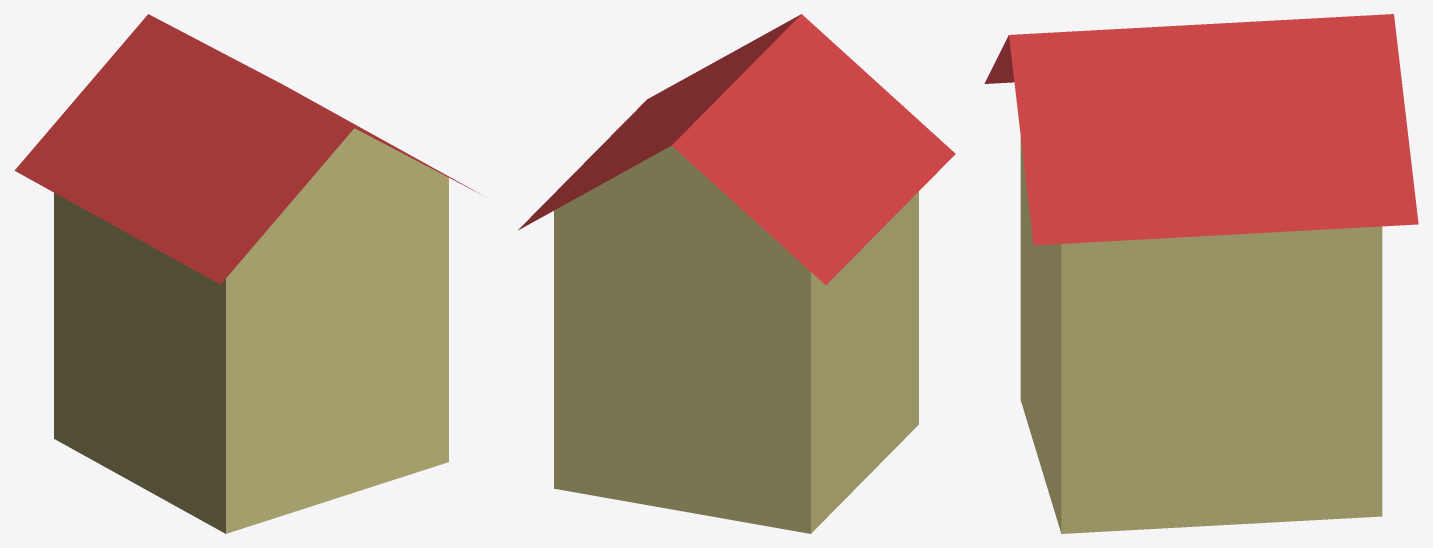
3 renders of one model, left to right at view 1: azimuth 30°, elevation 25°; view 2: azimuth 150°, elevation 25°; view 3: azimuth 270°, elevation 25°, orthographic. The views are drawn at different scales.
Bounding box in the file's own units: 6.67 × 6.71 × 7.39.
